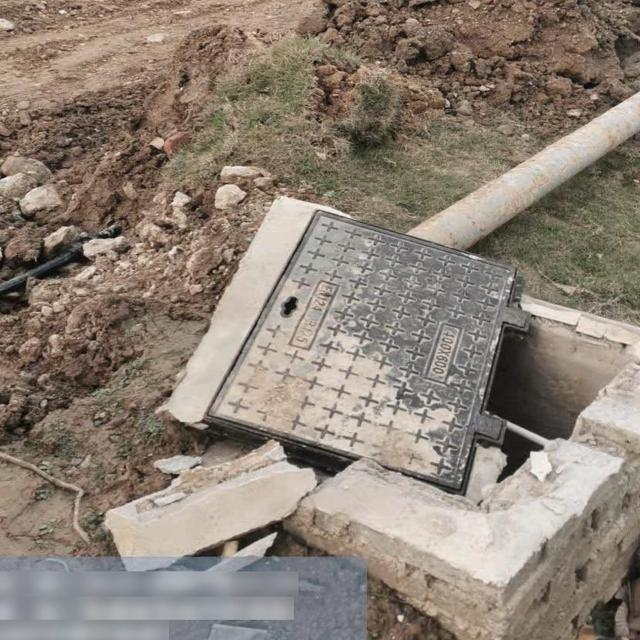circle: (123, 192, 640, 559)
